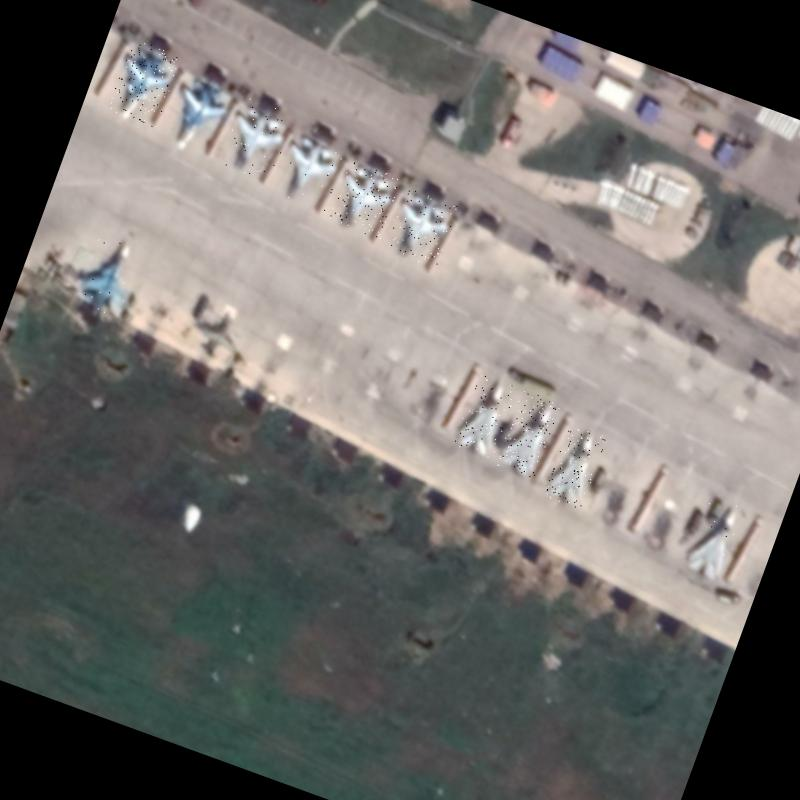A1: (219, 96, 296, 183), (271, 128, 347, 211), (327, 160, 402, 240), (384, 187, 458, 268)
A19: (71, 230, 149, 326), (162, 66, 238, 161), (106, 38, 182, 130)
A20: (494, 389, 560, 479), (681, 495, 747, 583), (452, 373, 517, 459), (543, 424, 608, 510)
